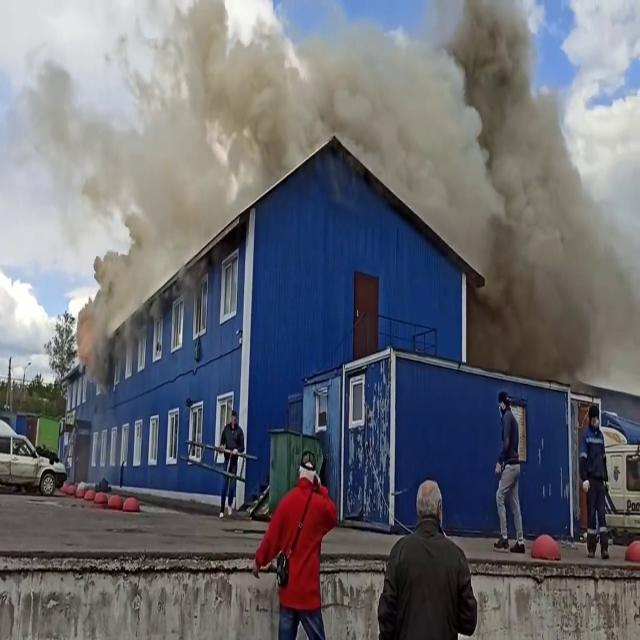Smoke: (12, 1, 616, 256), (415, 1, 639, 392)
